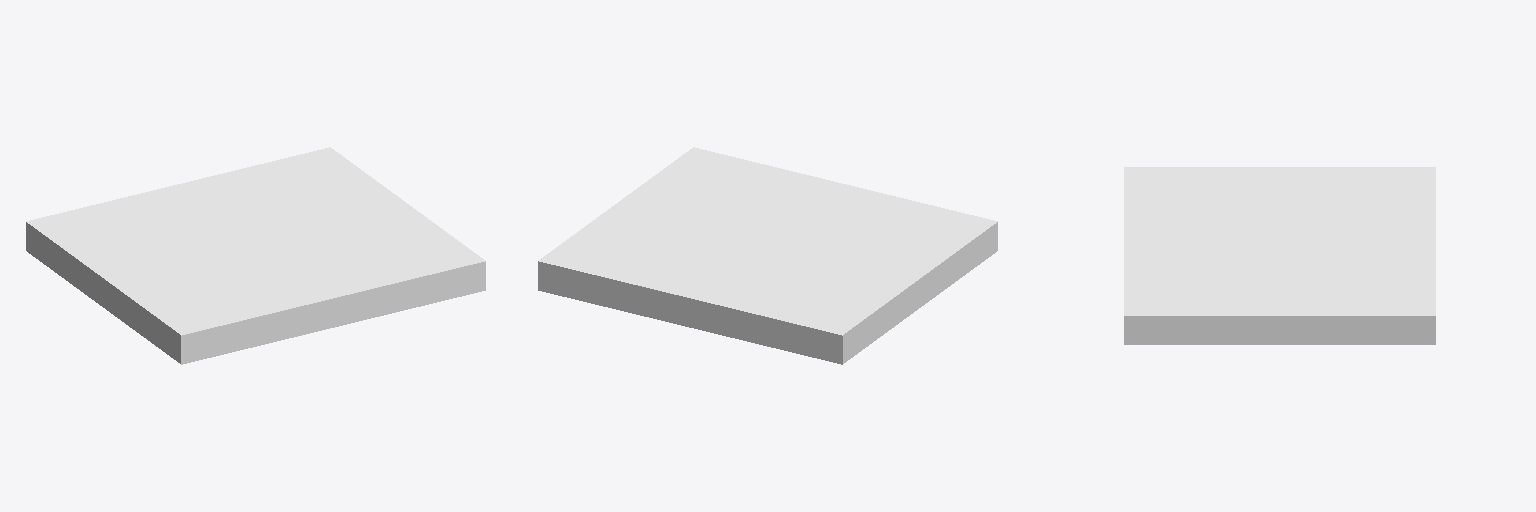
File: Ground-1.obj
The picture shows the model from 3 angles: view 1: azimuth 30°, elevation 25°; view 2: azimuth 150°, elevation 25°; view 3: azimuth 270°, elevation 25°; orthographic projection.
Parts seen in each view (by area): view 1: object 1; view 2: object 1; view 3: object 1.
Boxes of the visible parts, x1=… form: object 1: x1=26, y1=147, x2=485, y2=364; object 1: x1=538, y1=147, x2=997, y2=364; object 1: x1=1124, y1=167, x2=1435, y2=344.
Bounding box in the file's own units: 8.7 × 0.8 × 7.7.